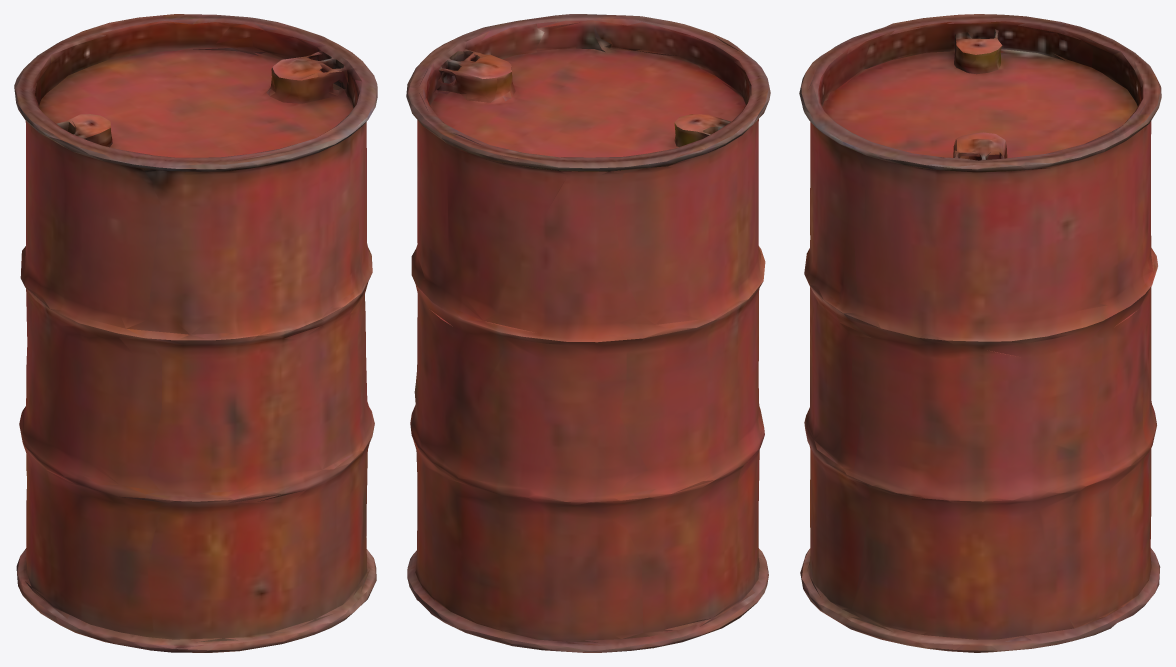
The model's file is street_rusty_barrel_3.glb.
The picture shows the model from 3 angles, left to right: view 1: azimuth 30°, elevation 25°; view 2: azimuth 150°, elevation 25°; view 3: azimuth 270°, elevation 25°; orthographic projection.
Parts seen in each view (by area): view 1: turn; view 2: turn; view 3: turn.
Part boxes in pixels (bbox=[...]): turn: bbox=[14, 14, 377, 652]; turn: bbox=[406, 14, 770, 652]; turn: bbox=[799, 14, 1161, 652].
Size of the model in its own units: 0.603 by 0.9 by 0.6032.
Materials: 1 (1 with a texture image).
